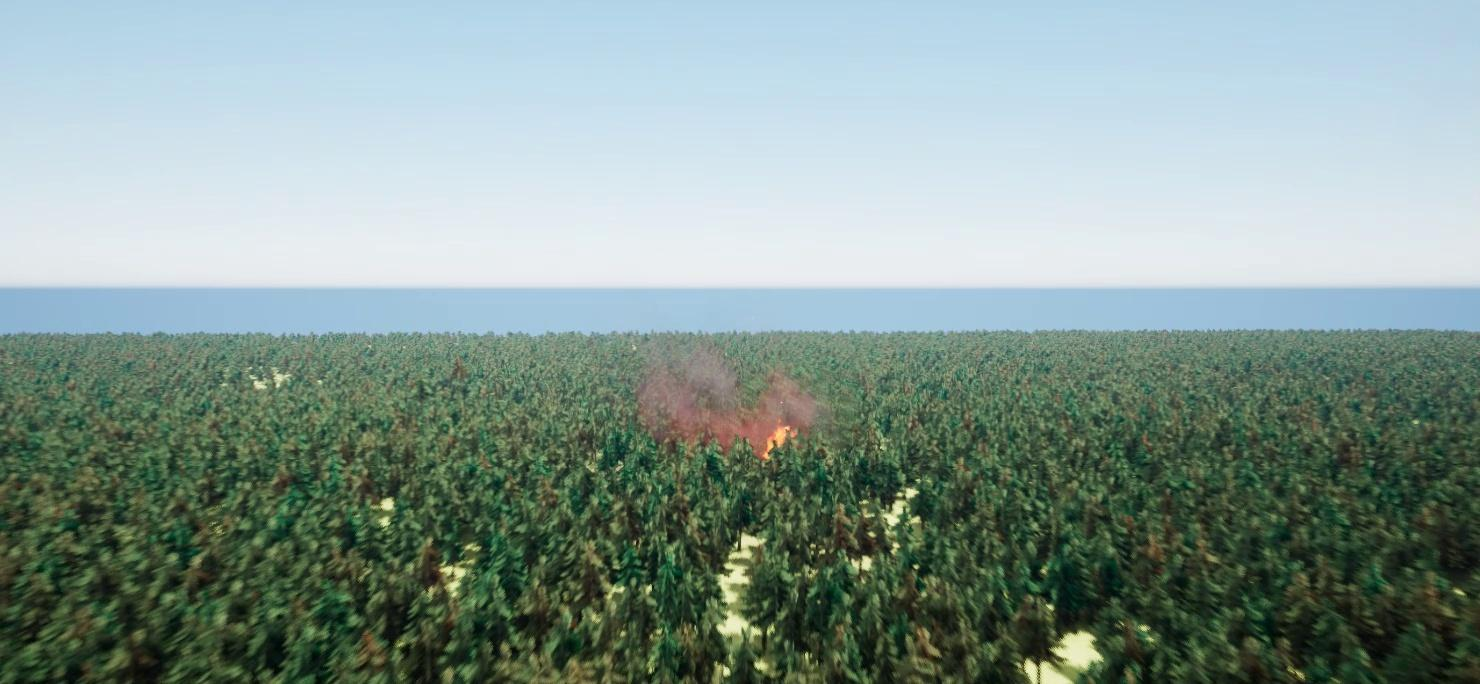fire: (762, 421, 800, 453)
smoke: (637, 333, 821, 459)
